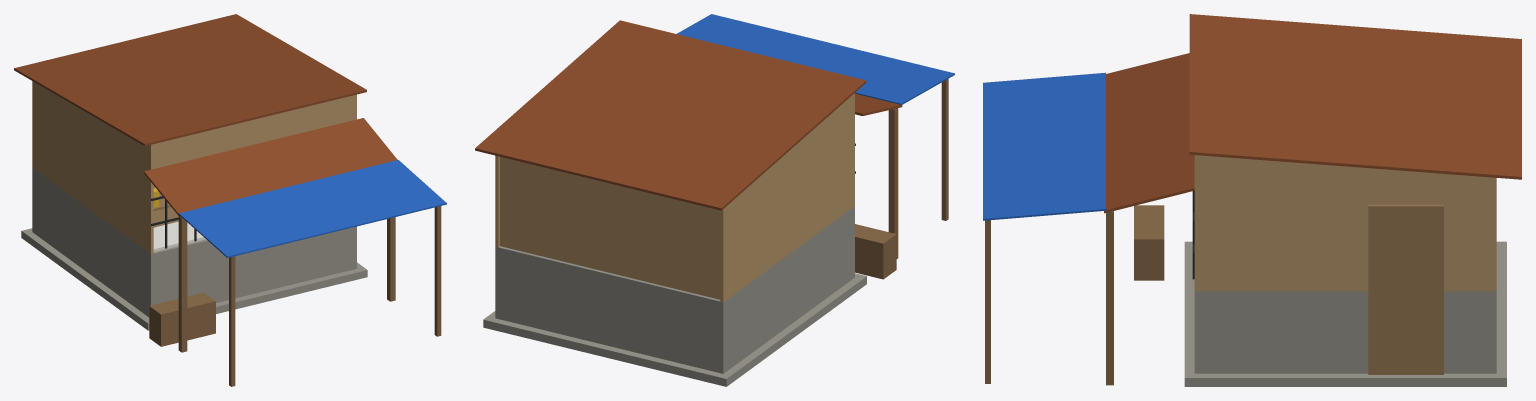
Rendered from BAY_I_SariSari_B.glb.
The picture shows the model from 3 angles, left to right: view 1: azimuth 30°, elevation 25°; view 2: azimuth 150°, elevation 25°; view 3: azimuth 270°, elevation 25°; orthographic projection. The views are drawn at different scales.
Visible parts, largest first — view 1: BAY_I_SariSari_B; view 2: BAY_I_SariSari_B; view 3: BAY_I_SariSari_B.
Part boxes in pixels (<box>): BAY_I_SariSari_B: <box>14,14,446,386</box>; BAY_I_SariSari_B: <box>475,14,954,386</box>; BAY_I_SariSari_B: <box>983,14,1521,386</box>.
Bounding box in the file's own units: 3.32 × 2.58 × 5.35.
Materials: 1 (1 with a texture image).
